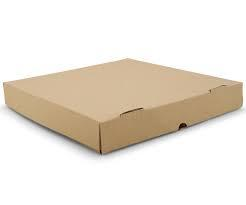Cardboard: (1, 9, 246, 173)
